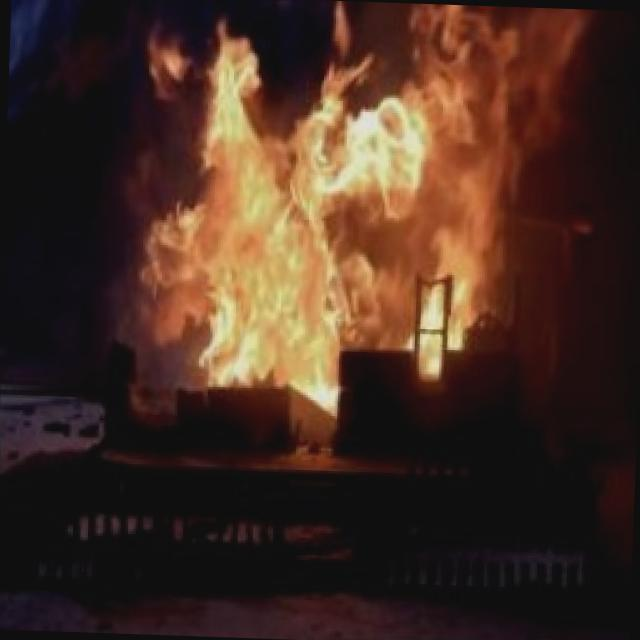fire: (102, 0, 609, 437)
